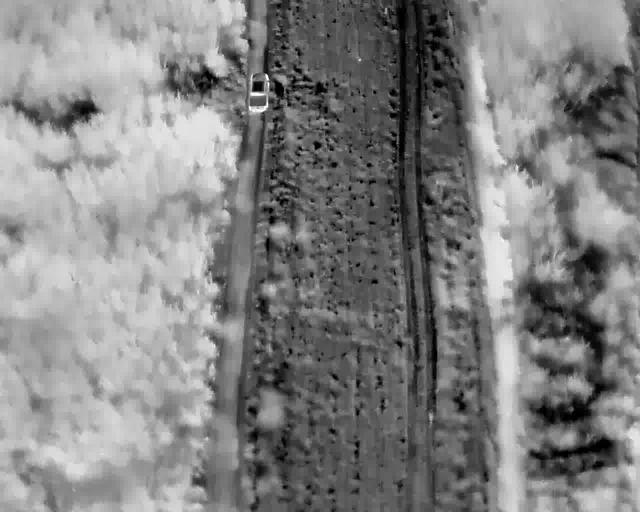car: (247, 72, 269, 112)
